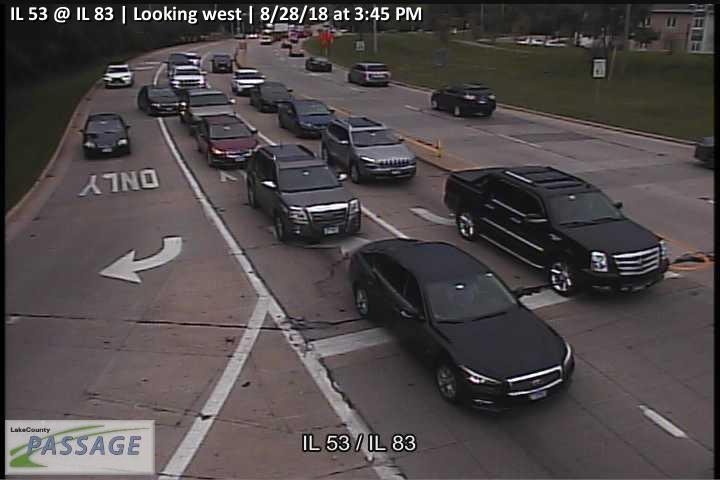SUV: (246, 144, 362, 244), (322, 115, 417, 186), (196, 116, 258, 168), (431, 80, 497, 117), (179, 87, 236, 126), (348, 60, 391, 85), (170, 65, 207, 92), (231, 69, 268, 94), (103, 64, 134, 88), (209, 53, 235, 73), (258, 33, 272, 43)
Sedan: (348, 238, 574, 415), (77, 113, 130, 159), (279, 99, 335, 139), (249, 80, 295, 113), (137, 85, 181, 116), (306, 56, 333, 72), (289, 46, 305, 56)
Truck: (444, 163, 670, 296)
